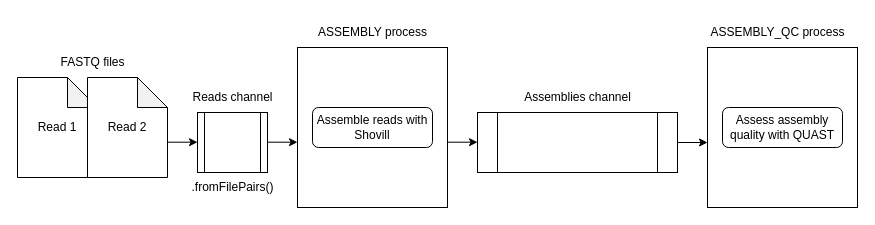
Some shapes in this 875 by 225 pixel diagram are drawn without their labels. The box of each missing label's shape, as (x1, y1, x2, y2) in pixels:
ASSEMBLY.out.assemblies: (476, 112, 678, 172)
reads_ch: (196, 112, 268, 172)
